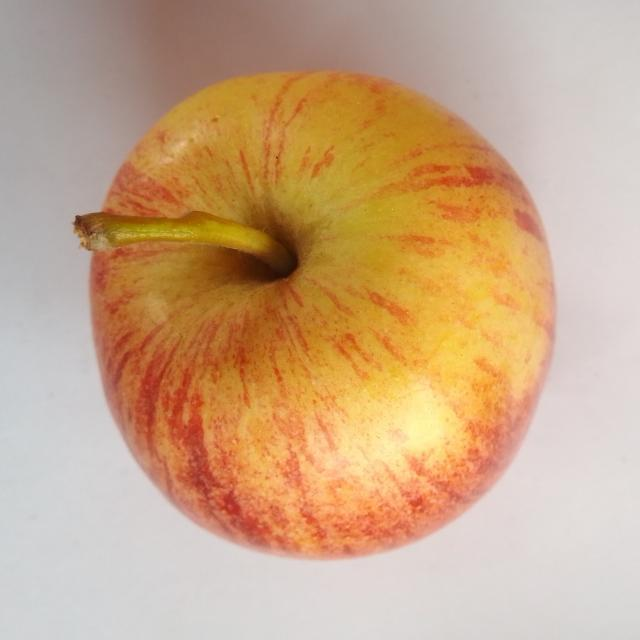Fresh Apple: (82, 85, 540, 547)
